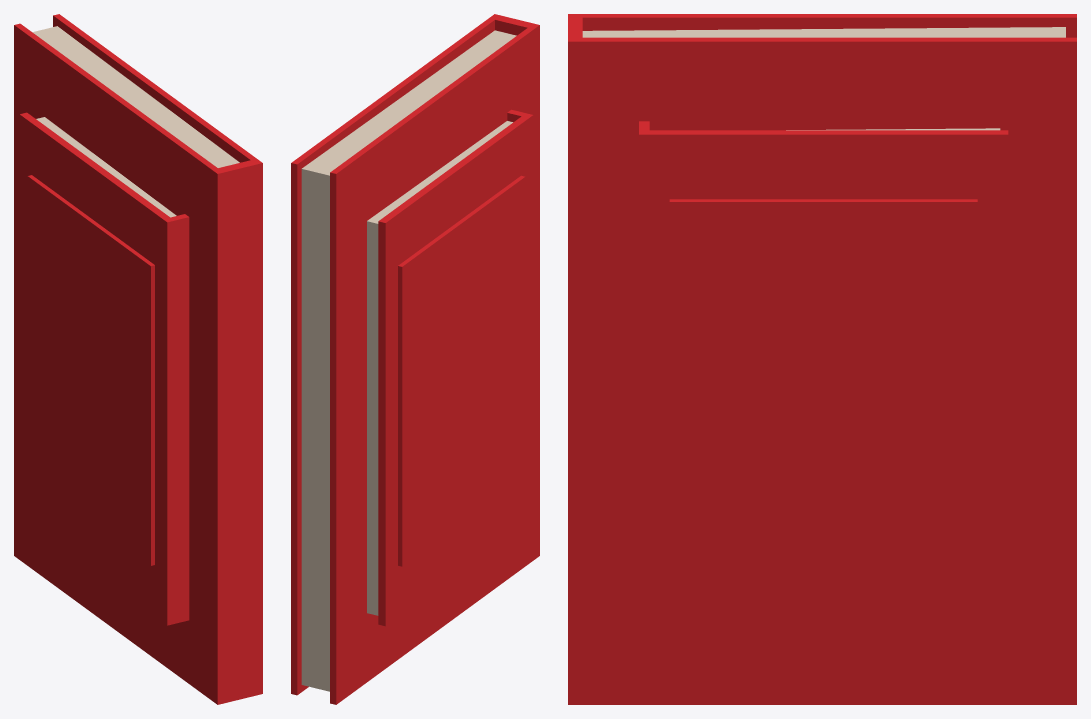
File: book.fbx
3 views of the same model, side by side, from view 1: azimuth 30°, elevation 25°; view 2: azimuth 150°, elevation 25°; view 3: azimuth 270°, elevation 25° (orthographic). The views are drawn at different scales.
Parts seen in each view (by area): view 1: Book02, Book03, Book05; view 2: Book02, Book03, Book05; view 3: Book02, Book03, Book05.
Boxes of the visible parts, x1,y1,x2,y2 form: Book02: (14, 14, 262, 704); Book03: (27, 175, 154, 565); Book05: (19, 112, 189, 625); Book02: (291, 14, 539, 704); Book03: (398, 175, 525, 566); Book05: (367, 109, 533, 626); Book02: (568, 14, 1076, 704); Book03: (669, 199, 977, 576); Book05: (639, 121, 1008, 638).
Size of the model in its own units: 11.17 by 58.09 by 40.37.
